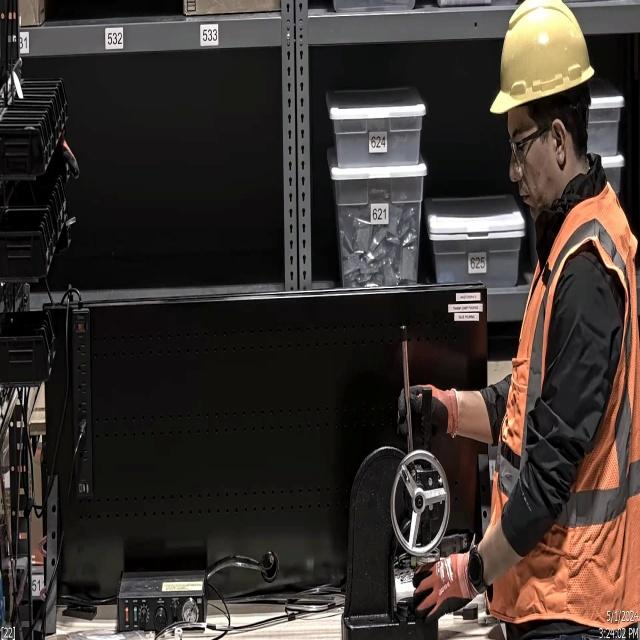gloves: (408, 546, 472, 628), (391, 381, 466, 448)
